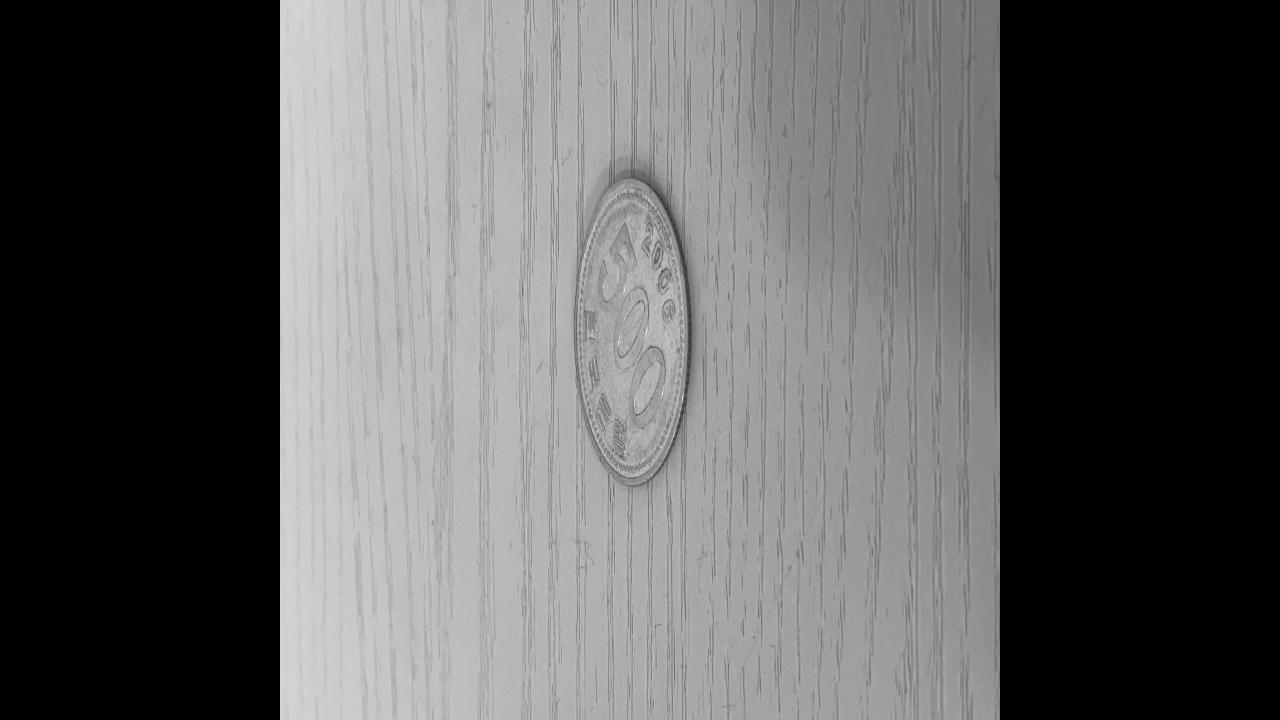coin: (572, 164, 696, 492)
